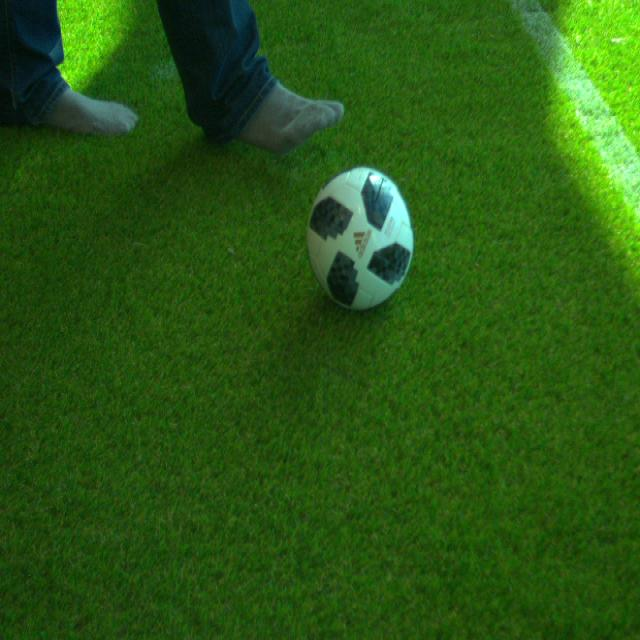ball: (308, 166, 415, 310)
